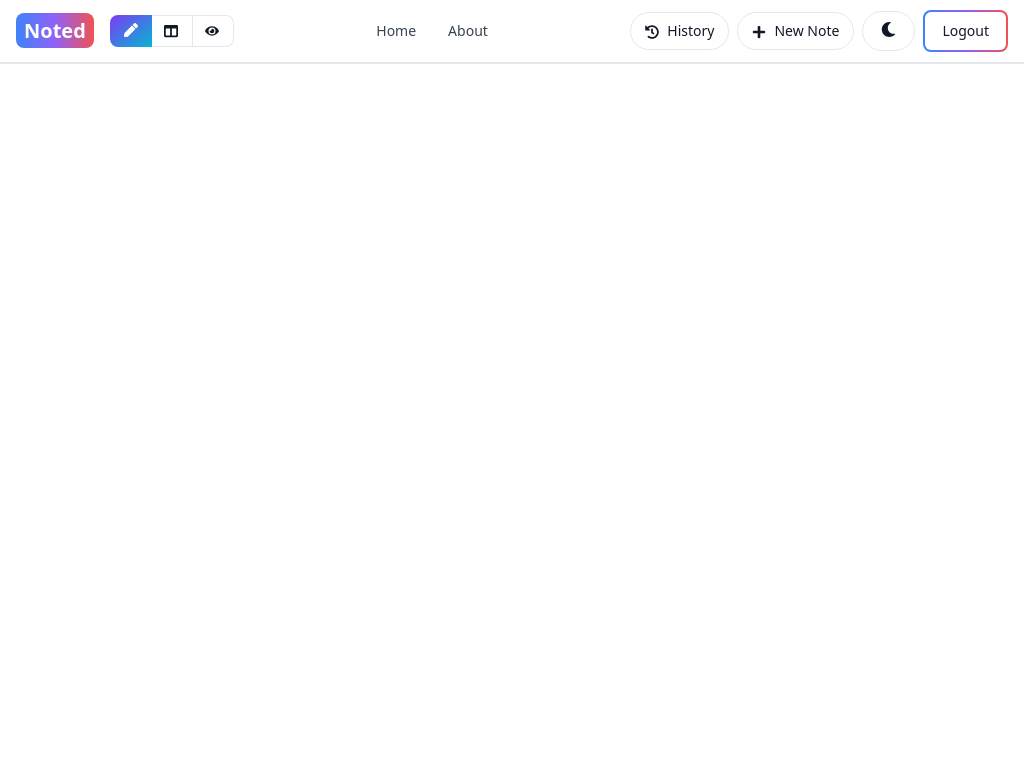
Test: Header Component › Version History › opens version history modal when clicking history button
The width and height of the screenshot is (1024, 768).
What coordinates should you click on to do the following:
click the button "History"
I would click on:
 (680, 31)
Its box is x1=630 y1=12 x2=729 y2=50.
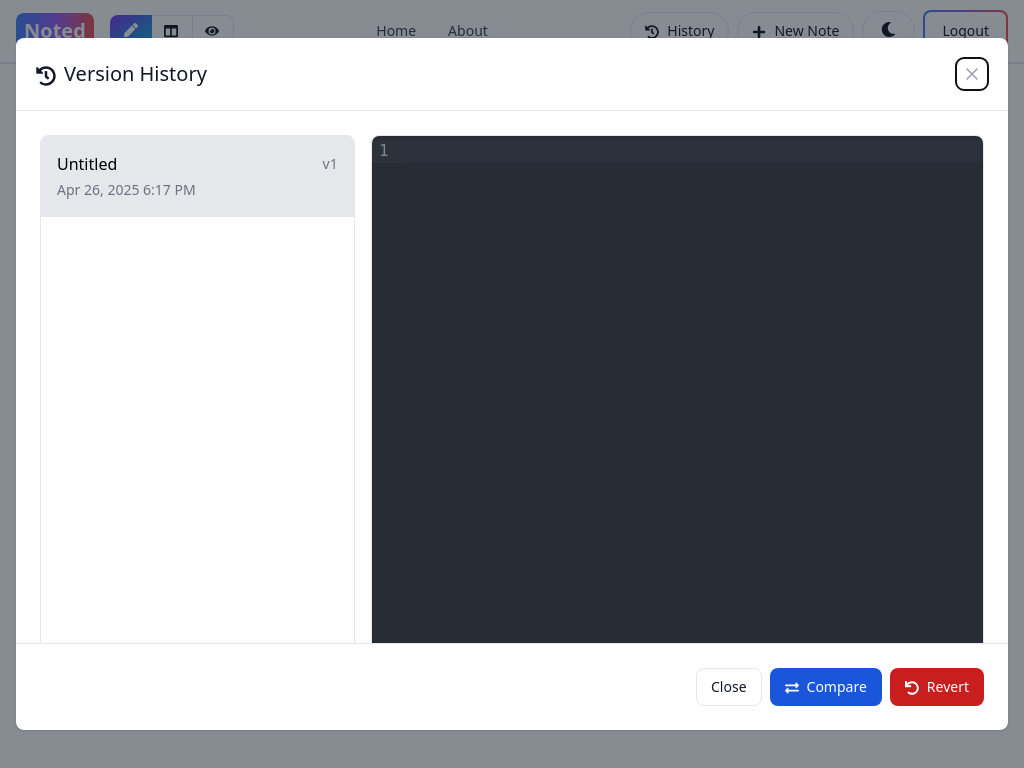
Expected: the dialog is shown
